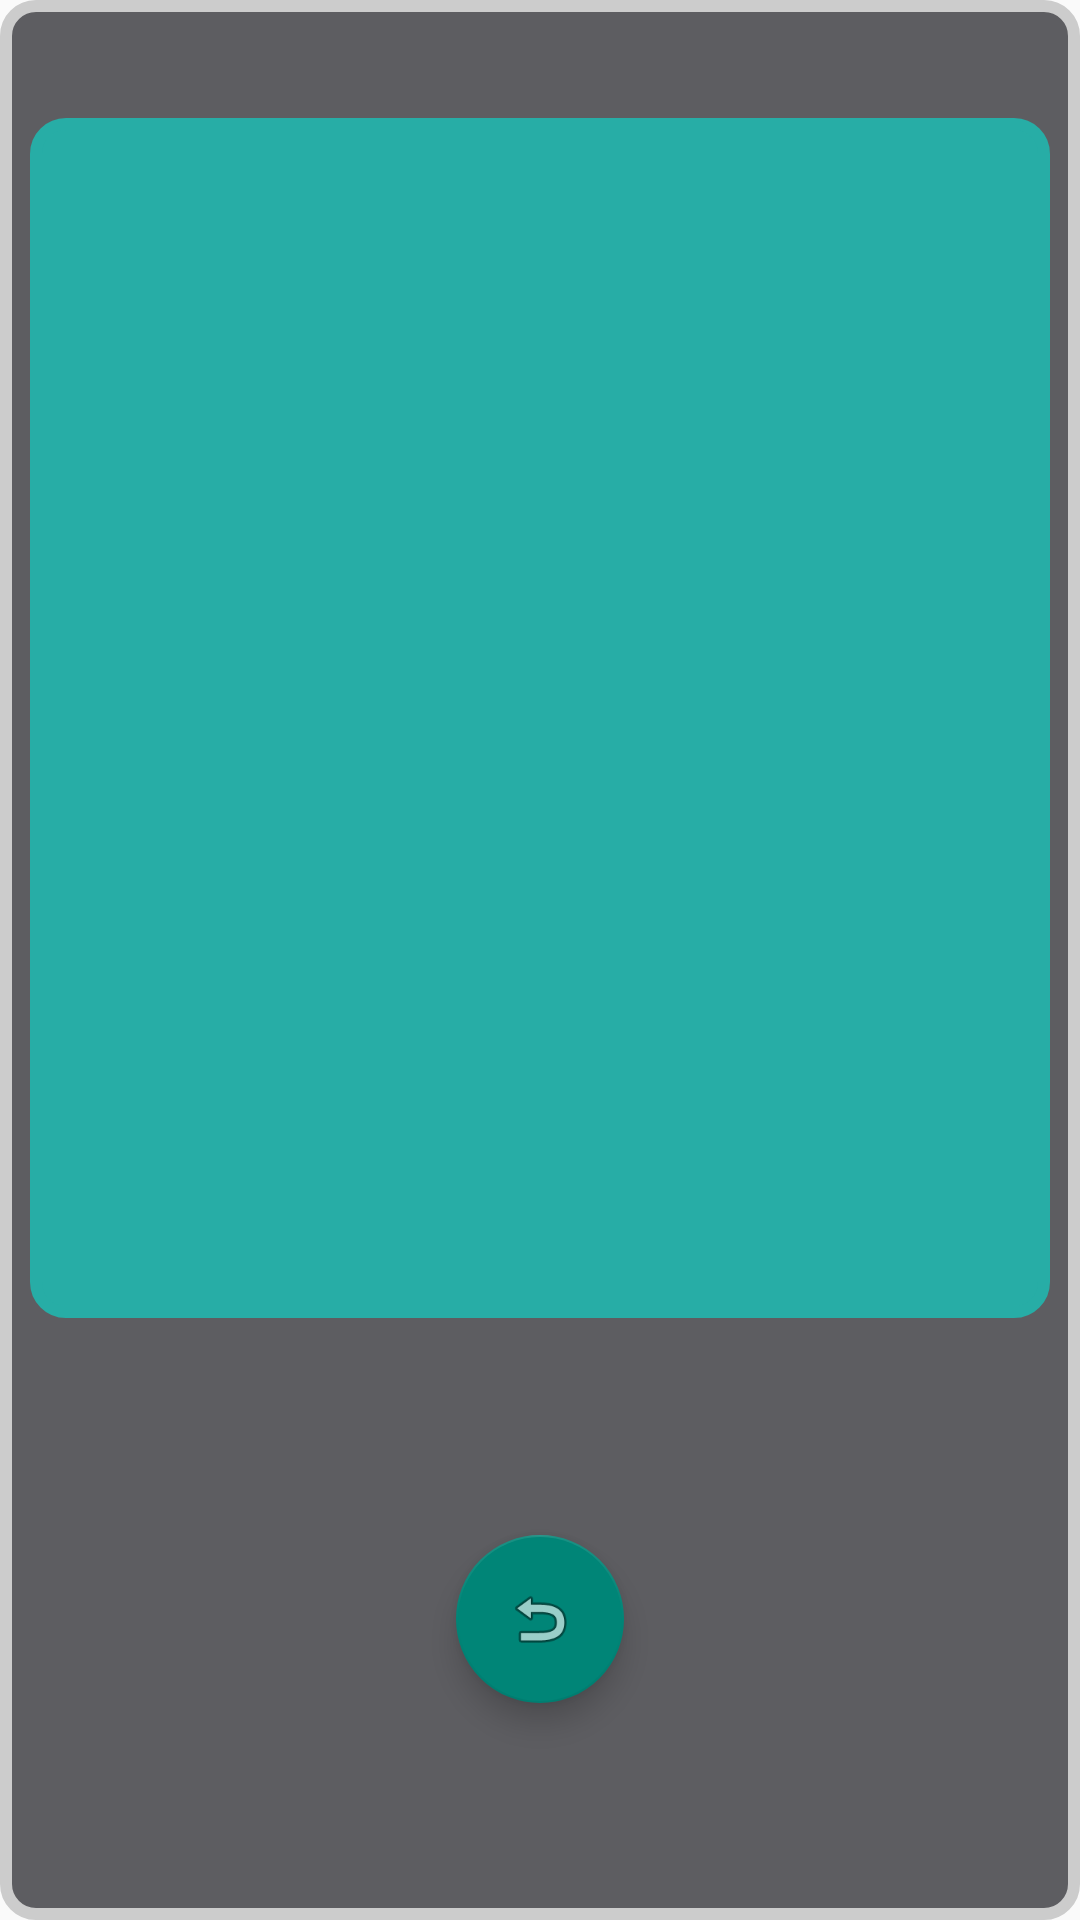

Named icons in this screenshot (1080x1920) and their bounding boxes, bbox=(x1, y1, x2, y2):
revert: bbox=(456, 1535, 624, 1703)
